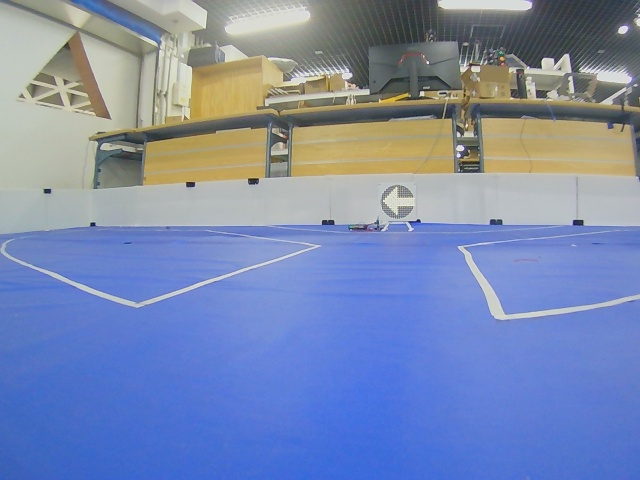left_yellow: (381, 185, 415, 220)
